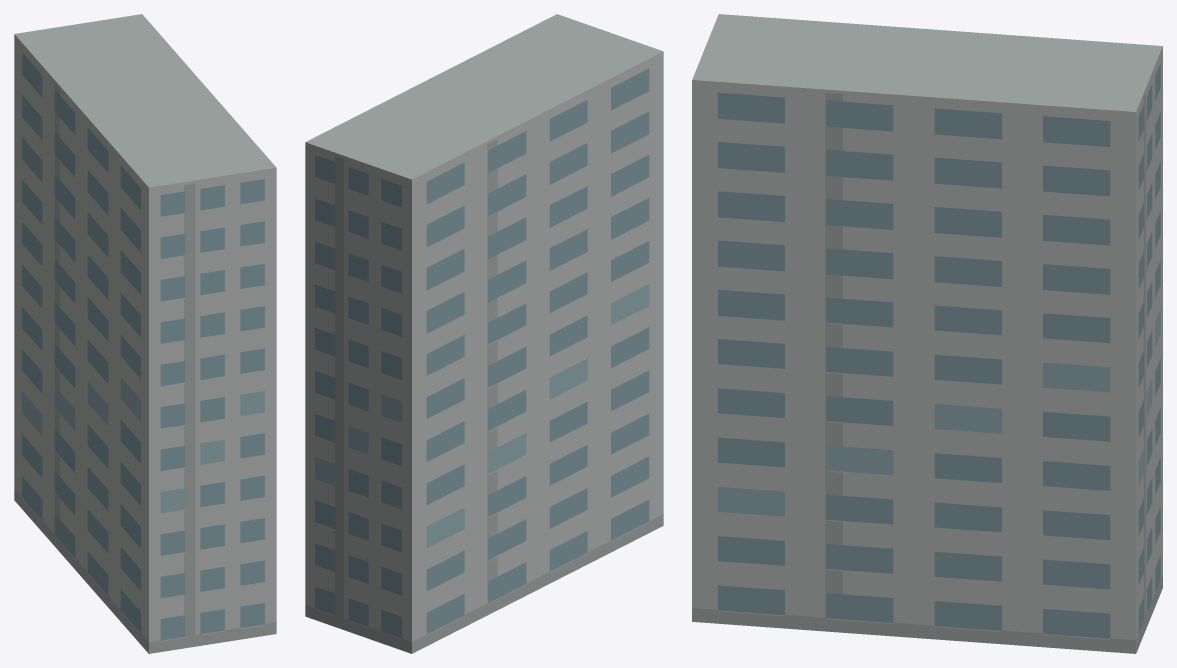
Rendered from residential-e02b9043-5327-471a-95b0-9e9603dc1a65.glb.
3 renders of one model, left to right at view 1: azimuth 30°, elevation 25°; view 2: azimuth 150°, elevation 25°; view 3: azimuth 270°, elevation 25°, orthographic. The views are drawn at different scales.
Parts seen in each view (by area): view 1: residential-e02b9043-5327-471a-95b0-9e9603dc1a65.tmp; view 2: residential-e02b9043-5327-471a-95b0-9e9603dc1a65.tmp; view 3: residential-e02b9043-5327-471a-95b0-9e9603dc1a65.tmp.
Part boxes in pixels (x1,y1,x2,y2): residential-e02b9043-5327-471a-95b0-9e9603dc1a65.tmp: (14,14,276,653); residential-e02b9043-5327-471a-95b0-9e9603dc1a65.tmp: (305,14,663,653); residential-e02b9043-5327-471a-95b0-9e9603dc1a65.tmp: (692,14,1162,653).
Size of the model in its own units: 15.53 by 40 by 31.5.
